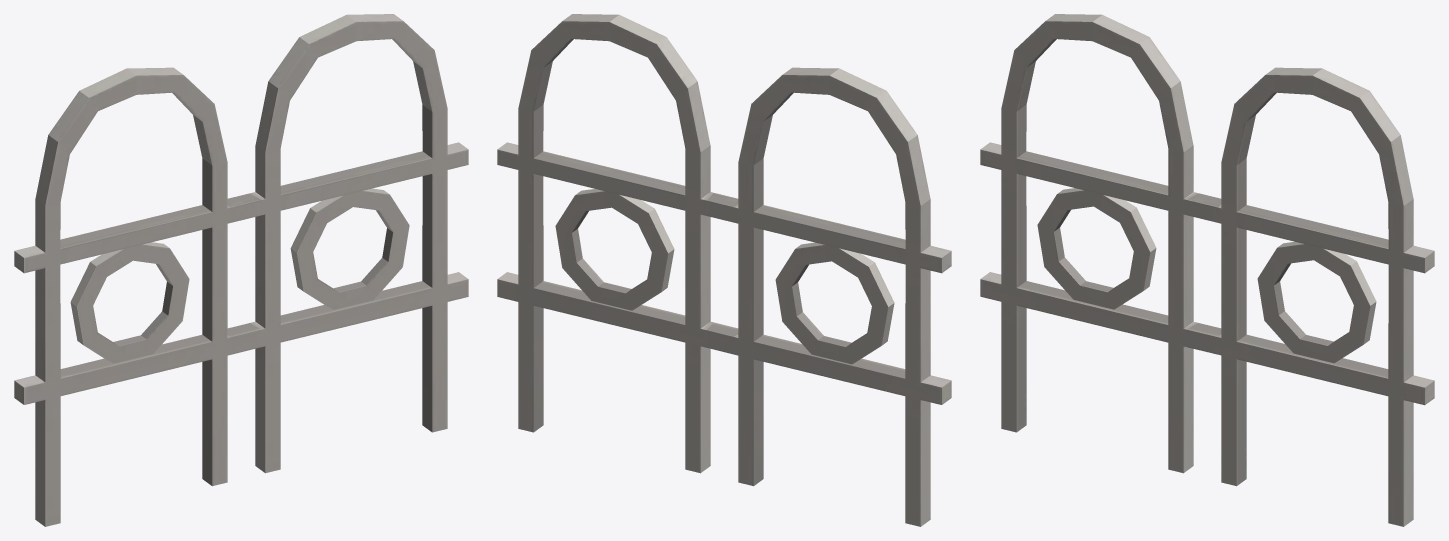
File: city_fence.glb
3 views of the same model, side by side, from view 1: azimuth 30°, elevation 25°; view 2: azimuth 150°, elevation 25°; view 3: azimuth 330°, elevation 25° (orthographic).
Parts seen in each view (by area): view 1: city:polySurface322; view 2: city:polySurface322; view 3: city:polySurface322.
Part boxes in pixels (<box>): city:polySurface322: <box>14,14,468,526</box>; city:polySurface322: <box>497,14,951,526</box>; city:polySurface322: <box>980,14,1434,526</box>.
Size of the model in its own units: 1.24 by 1.14 by 0.0476.
1 material, 1 textured.
